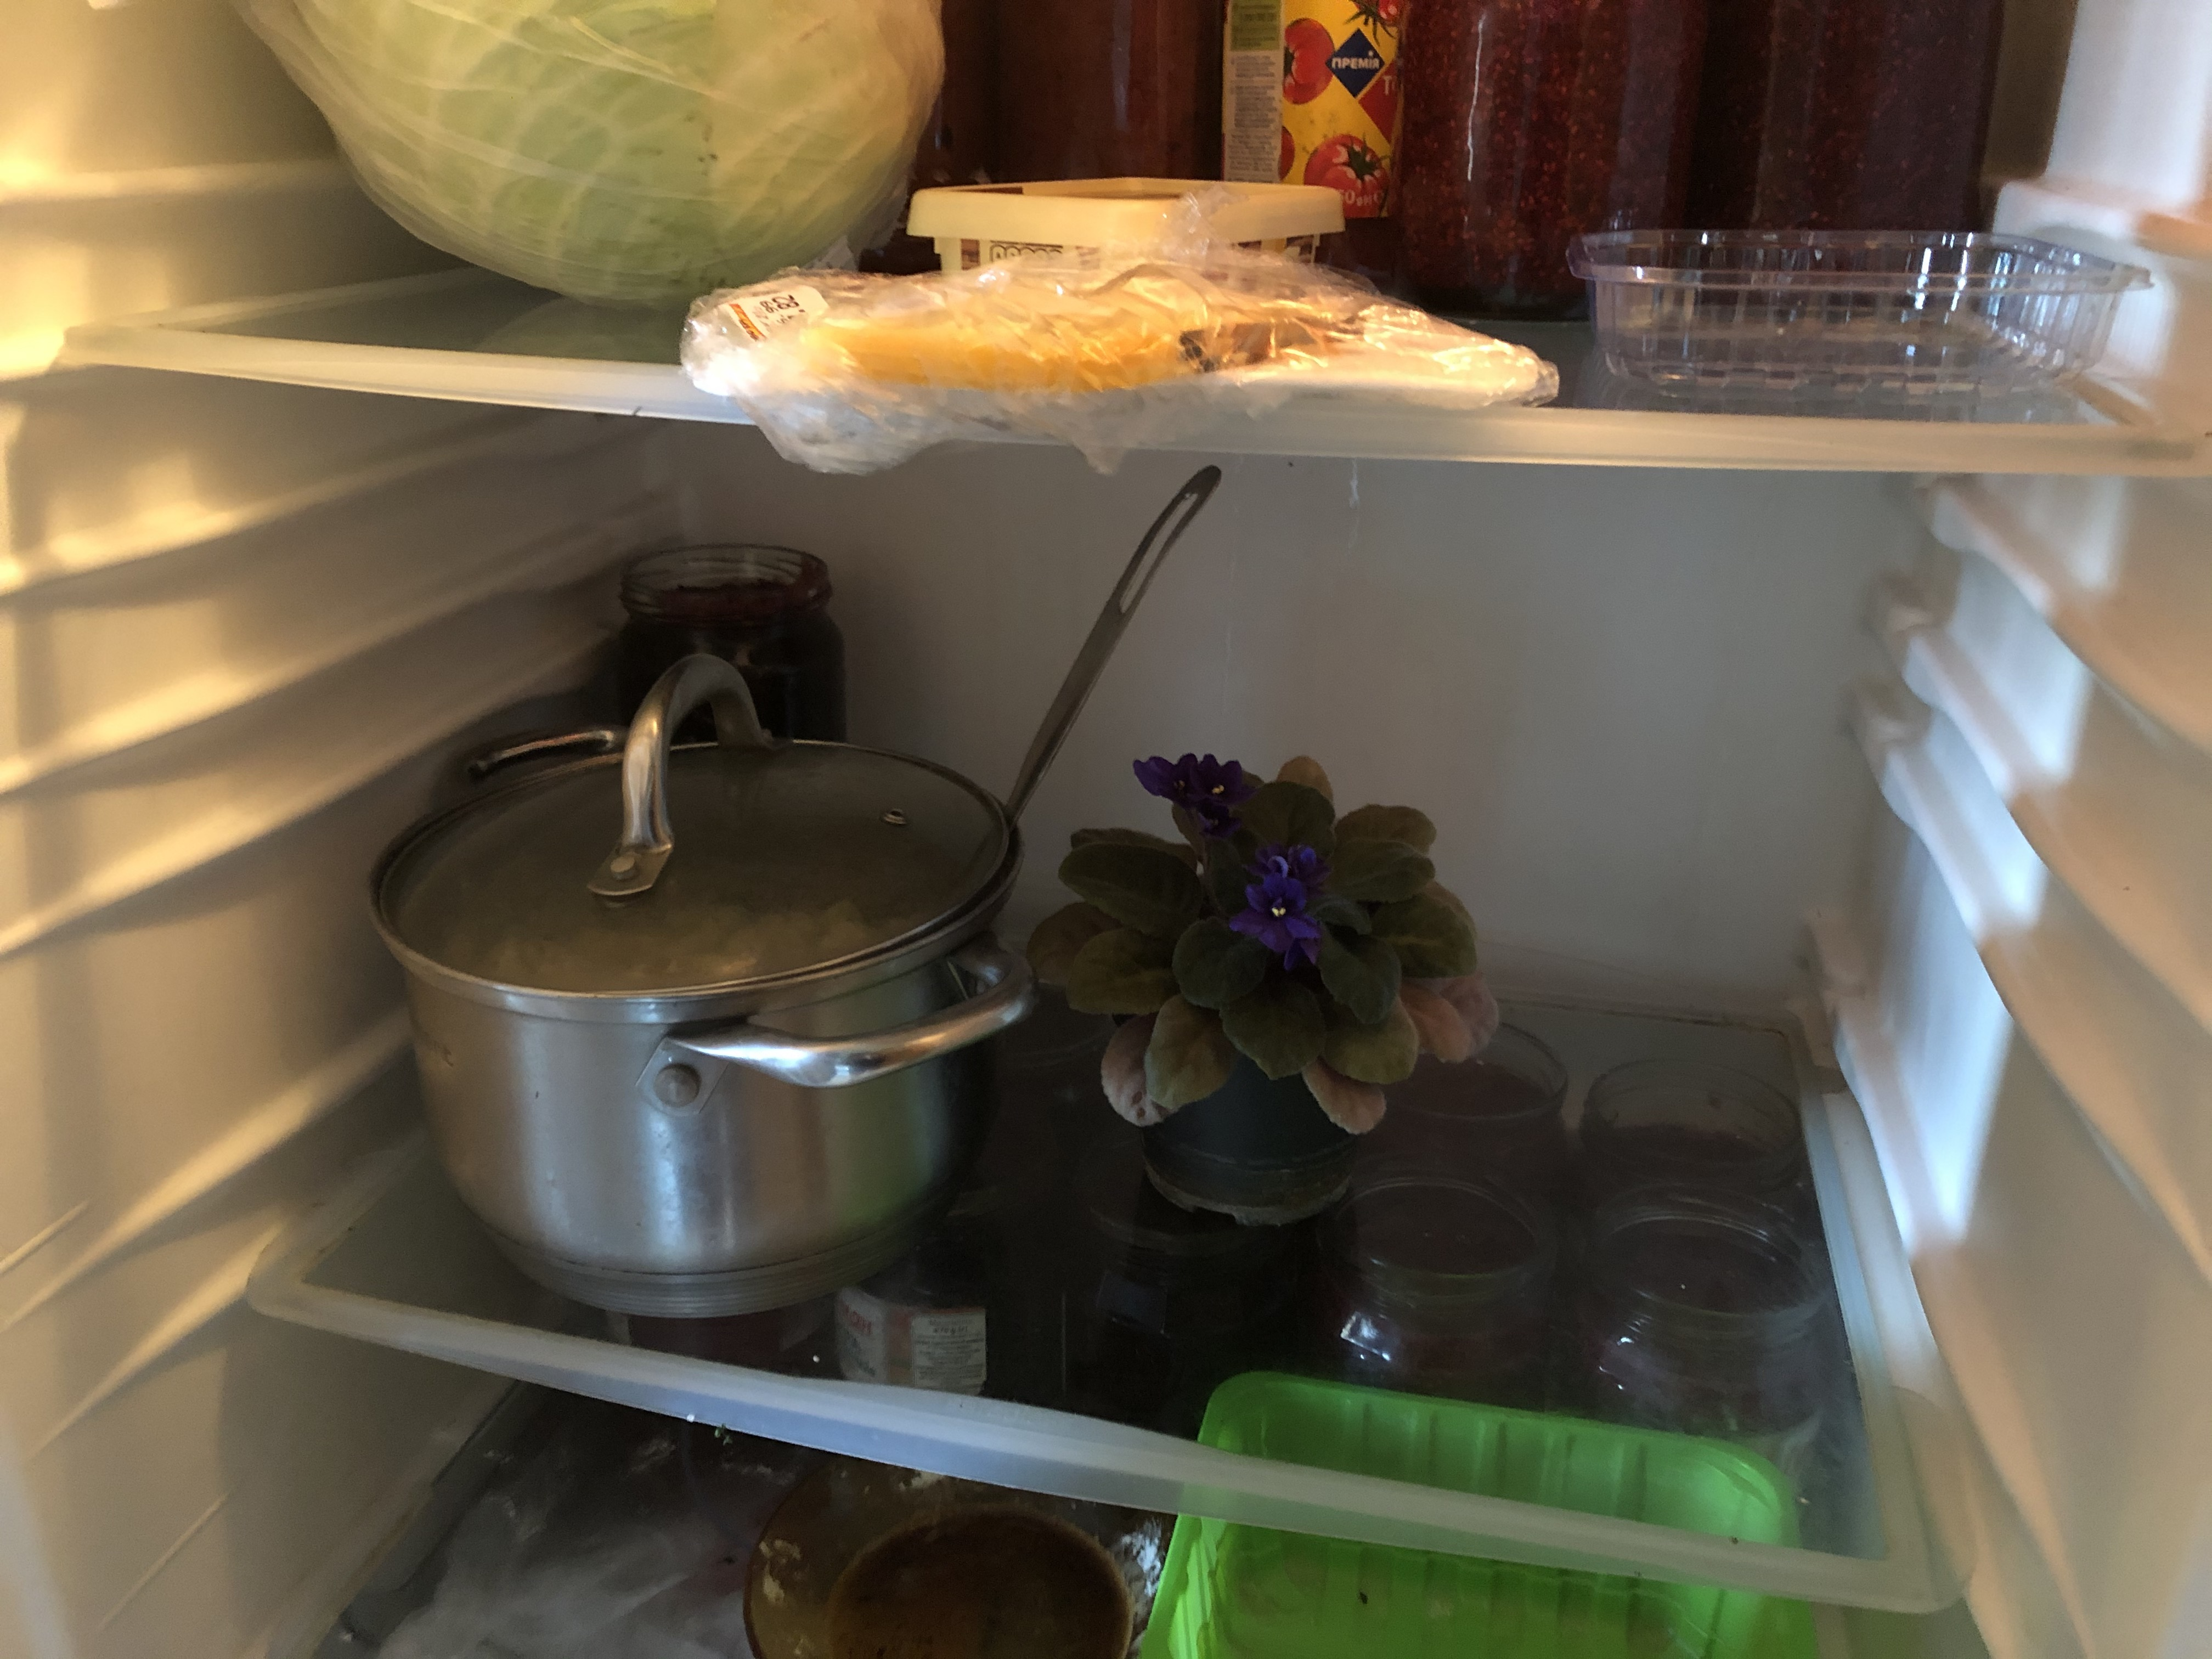ignore: (1003, 730, 1498, 1140)
